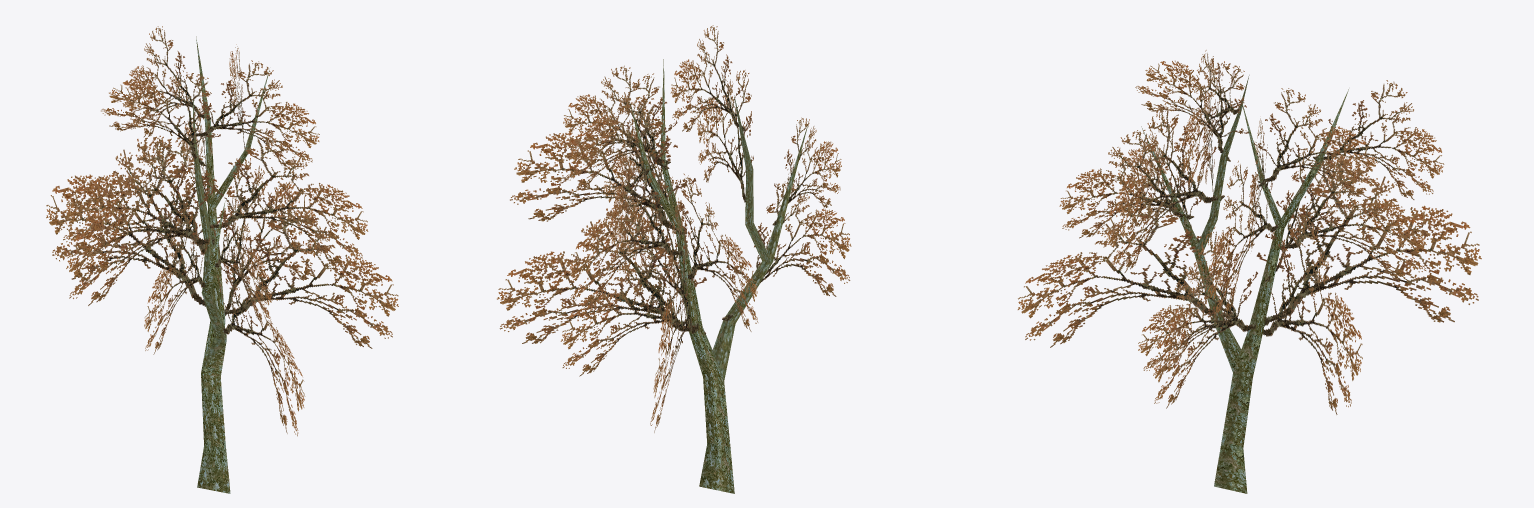
Rendered from stage-lake-p2-287.glb.
The picture shows the model from 3 angles, left to right: view 1: azimuth 30°, elevation 25°; view 2: azimuth 150°, elevation 25°; view 3: azimuth 270°, elevation 25°; orthographic projection. The views are drawn at different scales.
Bounding box in the file's own units: 22.51 × 25.17 × 27.08.
2 materials, 2 textured.
